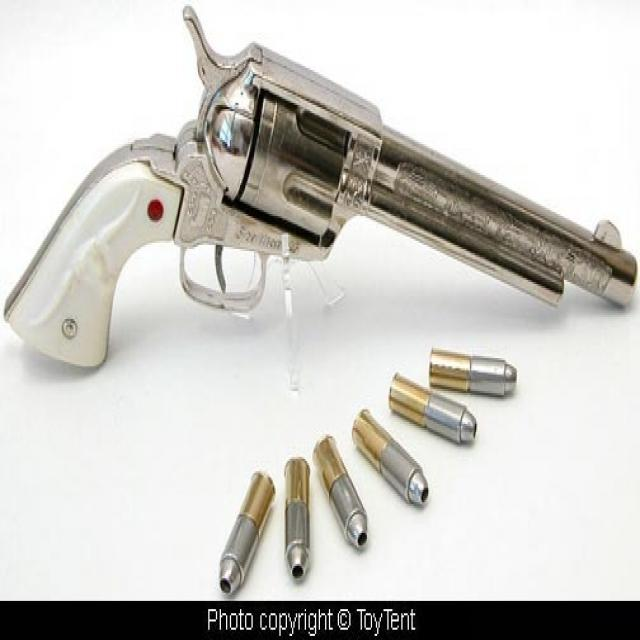gun: (0, 0, 625, 542)
